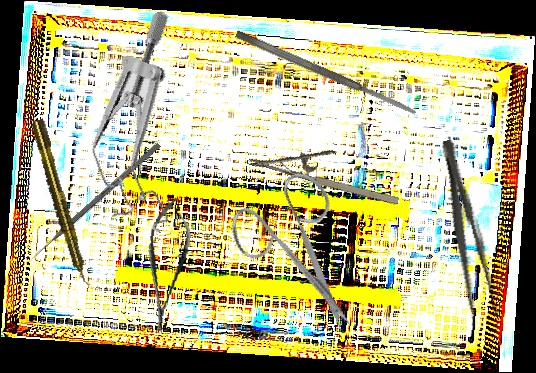Dressing Forceps: (430, 137, 503, 323)
Handpiece: (29, 118, 93, 289)
Iris Scissors: (208, 155, 399, 336)
Micro Scissor: (136, 194, 196, 337)
Needle Holder: (247, 127, 407, 210)
Pusher: (23, 141, 162, 267)
Spatula Surgical: (234, 28, 418, 119)
Speculum: (51, 9, 237, 247)
